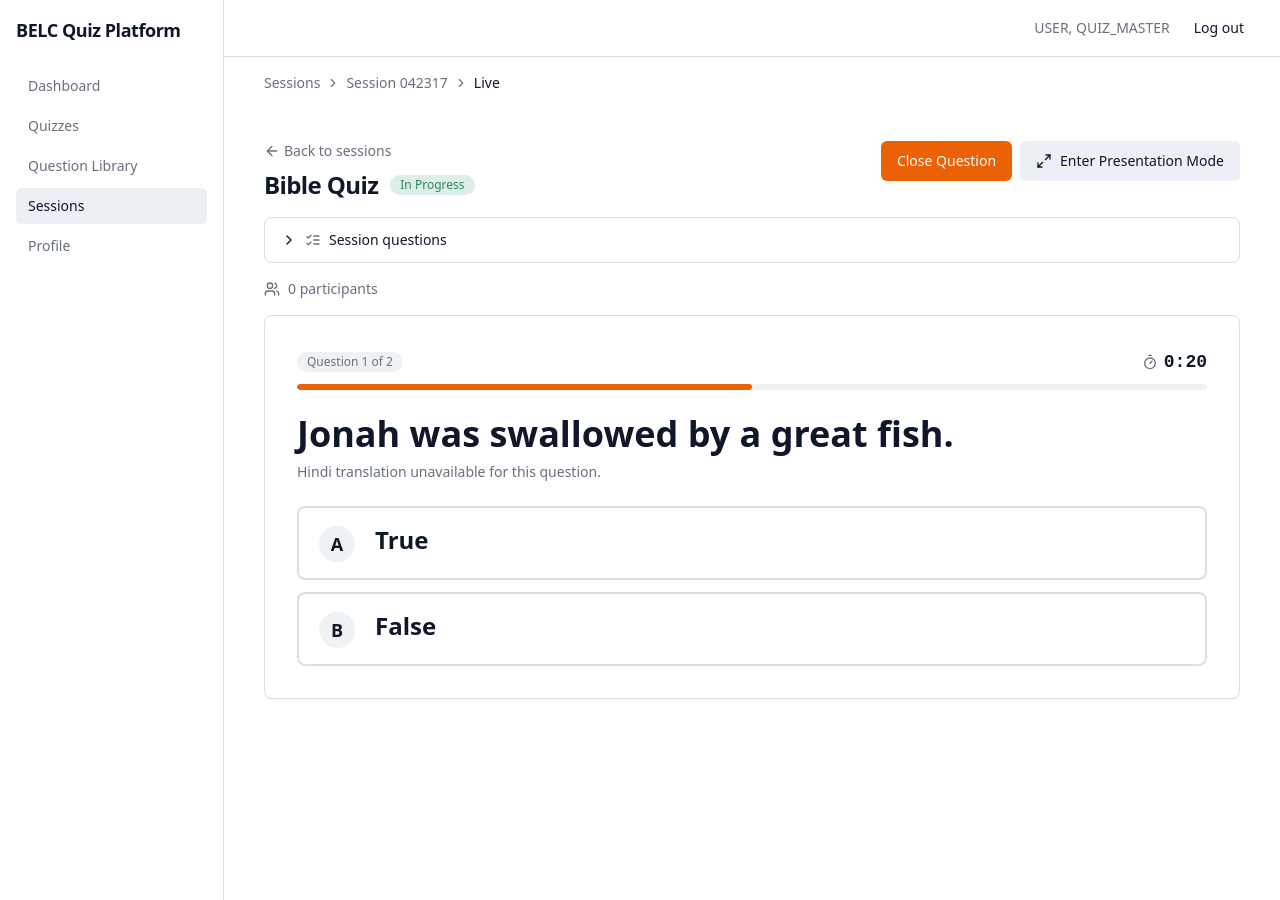
SessionLivePage › shows the projector-scale timer in Presentation Mode, and the compact one otherwise
Expected: the text "Jonah was swallowed by a great fish." is shown, [297,409,954,458]
Expected: the text "time left" is not shown
Click the button "Enter Presentation Mode" at (1130, 161), box [1020,141,1240,181]
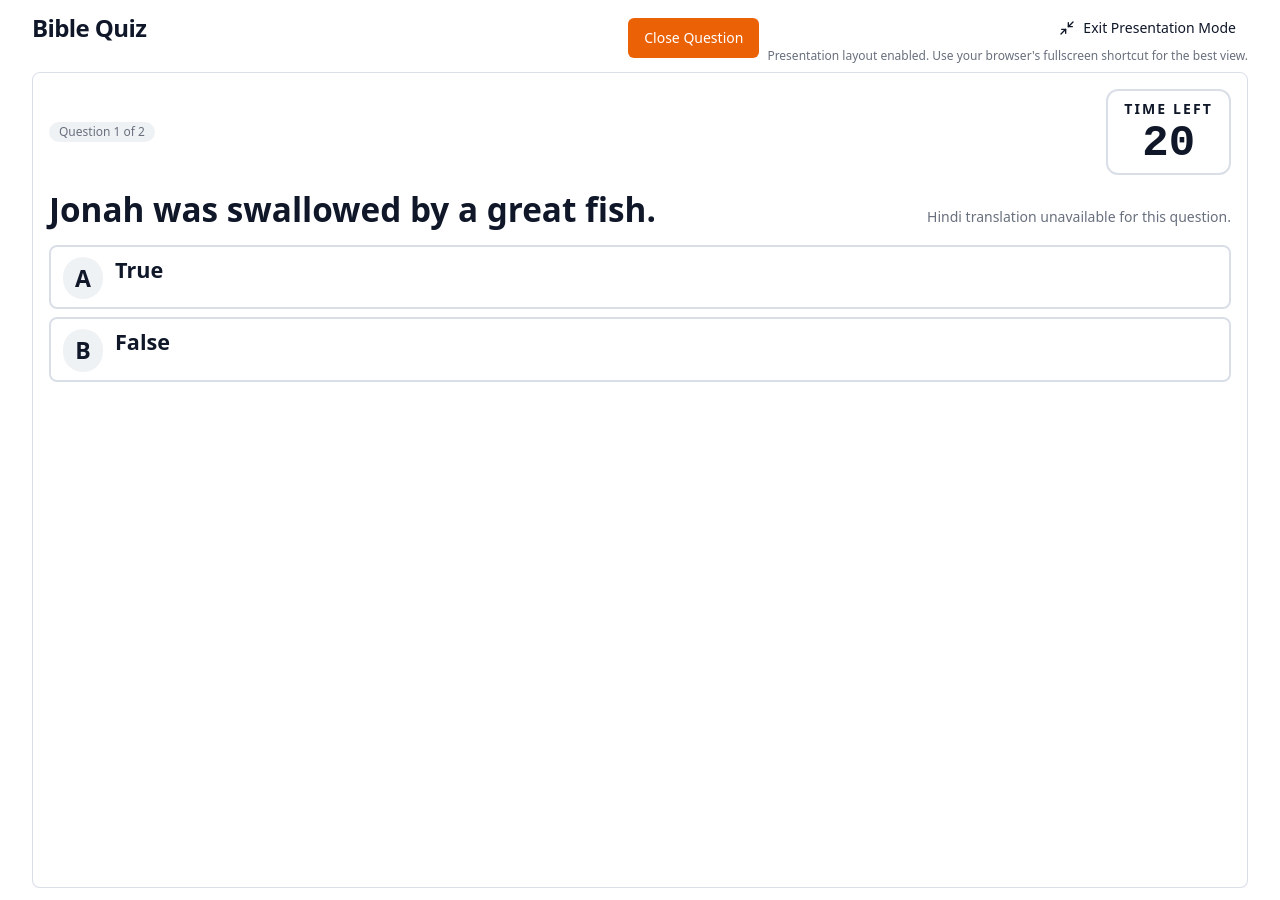
Result: the text "Time left" is shown at [1124,99,1213,119]
Result: the element showing "Time left 20" is shown at [1106,89,1231,175]
